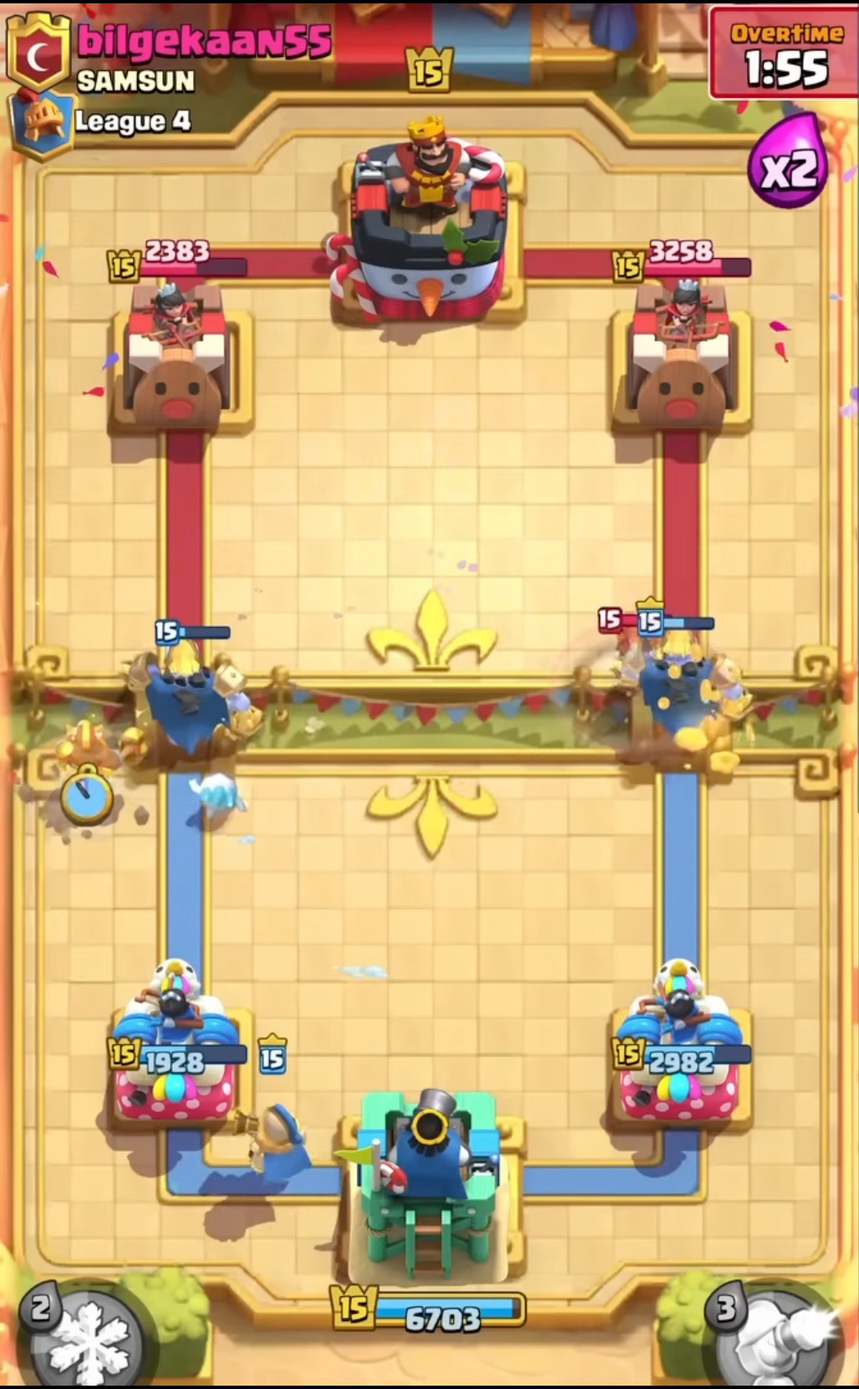hero_ice_golem: (122, 602, 264, 769), (629, 594, 756, 769)
hero_musketeer: (231, 1029, 323, 1227)
hog_rider: (53, 713, 150, 833)
ice_spirit: (188, 768, 253, 828)
